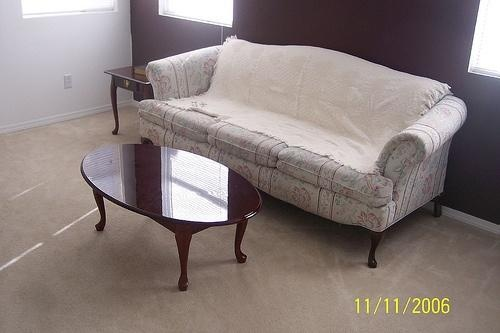sofa: (137, 31, 454, 275)
